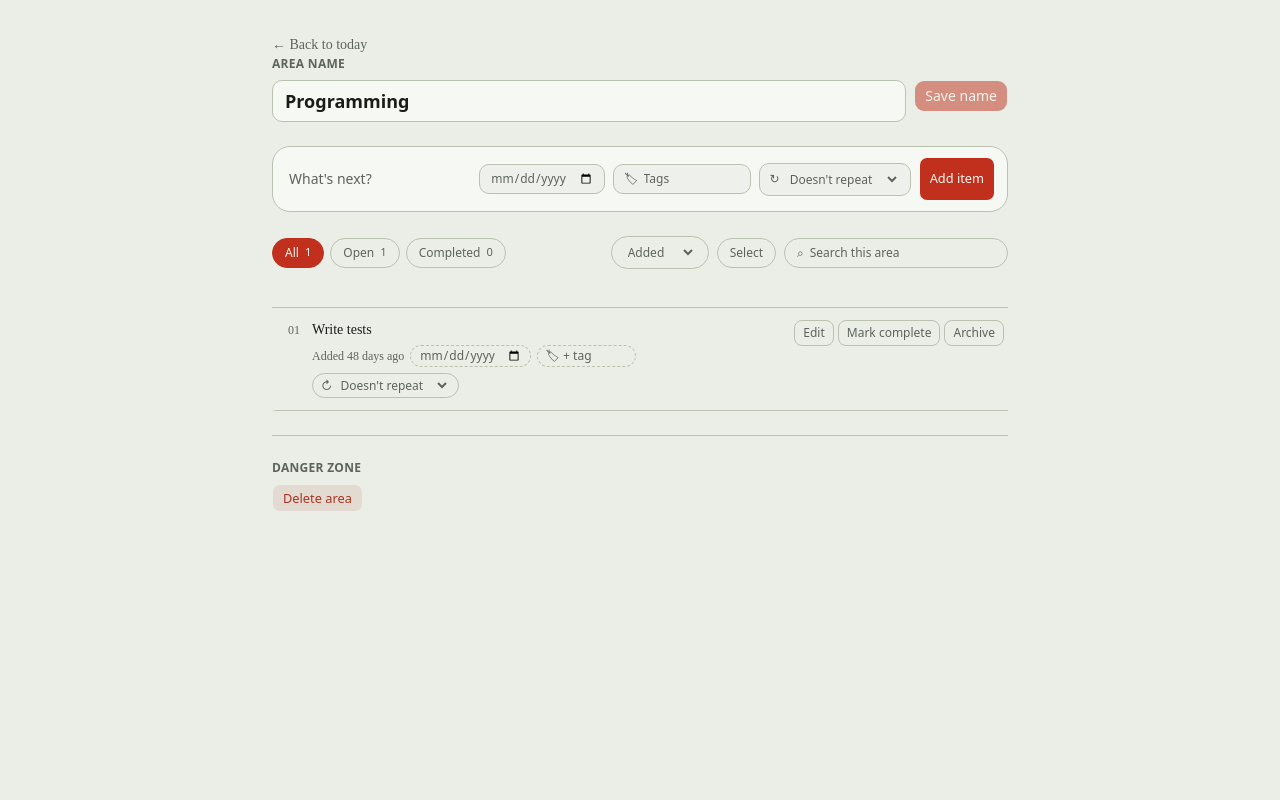
it: AreaRoute › does not talk about history when there is none to lose
Check: the link "Write tests" is shown, box [312,322,372,337]
Click the button "Delete area": {"x": 317, "y": 498} [272,484,363,512]
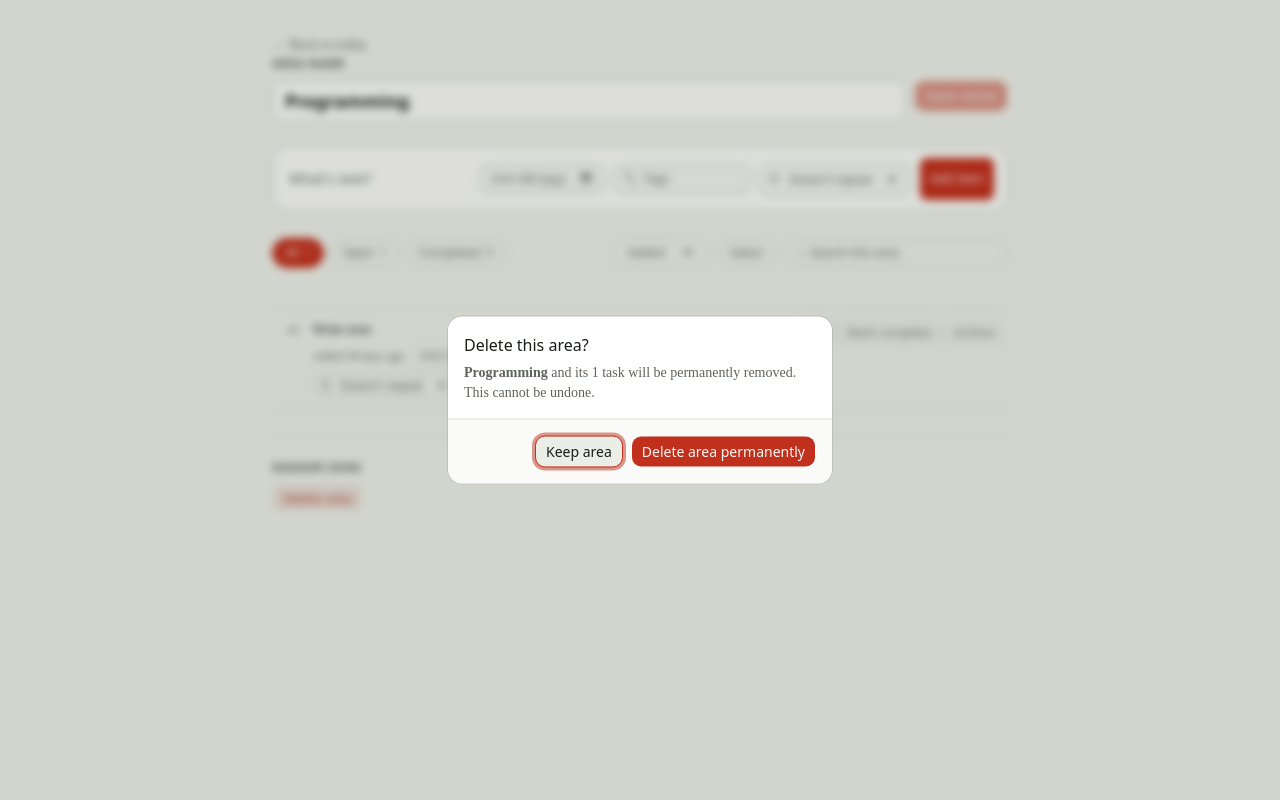
Check: the dialog does not show "review", box [448,316,832,484]
Check: the dialog shows "1 task", box [448,316,832,484]
